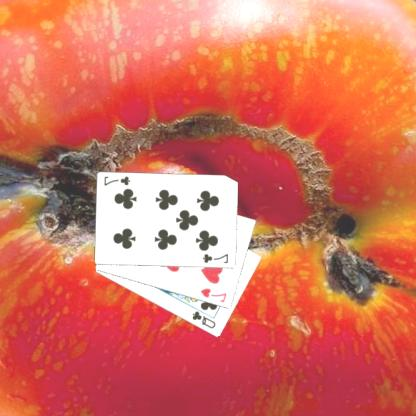7C: (202, 251, 232, 265), (103, 174, 134, 187)
7H: (199, 286, 230, 304)
QC: (191, 308, 219, 330)
